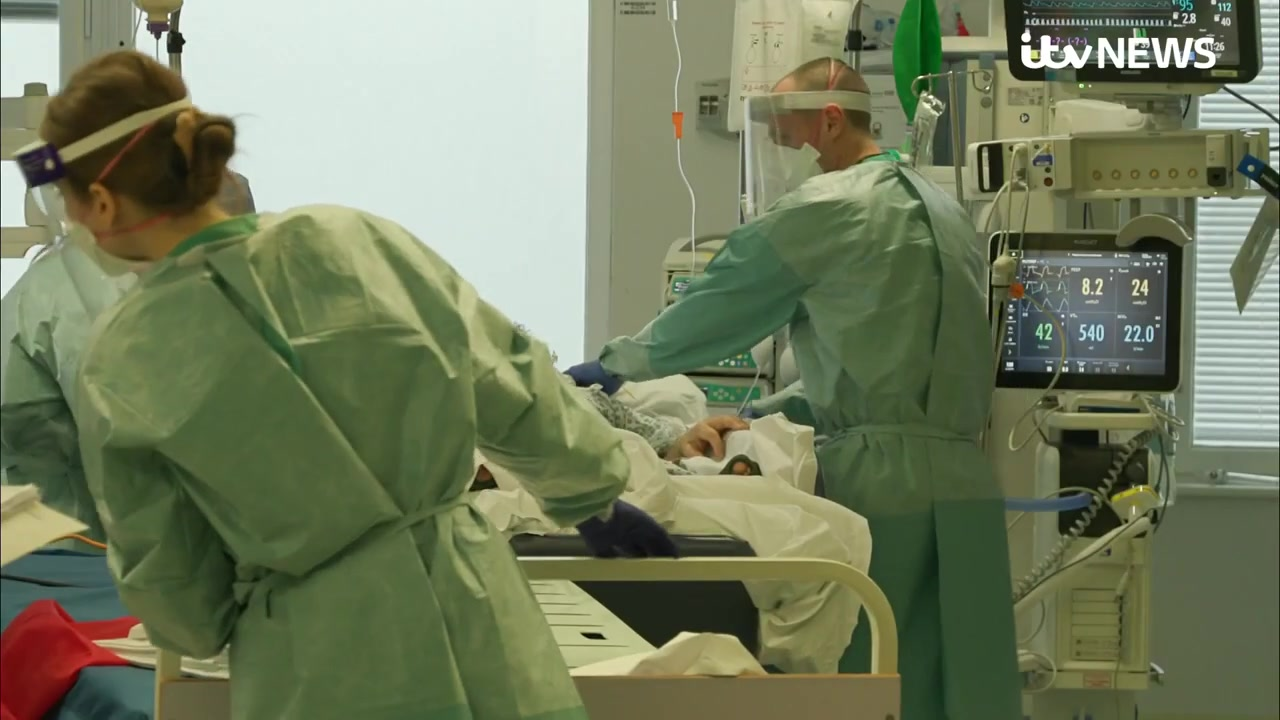bedrail: (152, 553, 902, 714)
bedside_monitor: (987, 231, 1183, 392), (1004, 1, 1263, 84)
breathing_tube: (1002, 488, 1098, 512)
hospital_bed: (3, 362, 902, 716)
iv_pole: (908, 69, 994, 206)
patient: (585, 365, 799, 508)
staff: (12, 50, 632, 720), (564, 58, 1022, 720), (1, 166, 256, 554)
ventilator: (1032, 407, 1163, 696)
